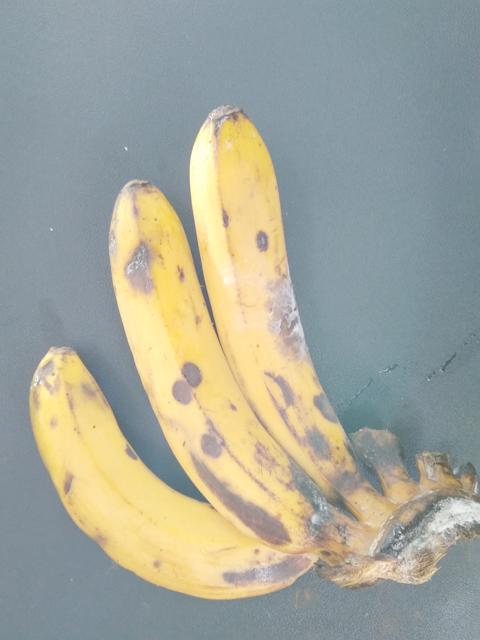ripe: (99, 167, 299, 548), (27, 339, 287, 605)
rotten: (187, 86, 384, 529)
